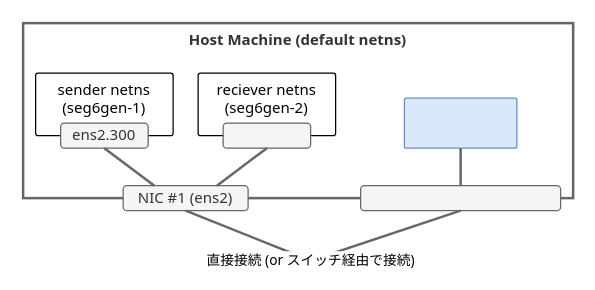
This 595x290 diagram has some shape labels left out. The centre of each missing label's shape, as x and y in pixels:
ens2.400: (266,135)
NIC #2 (sdplane port0): (460,197)
sdplane (Router): (460,122)
